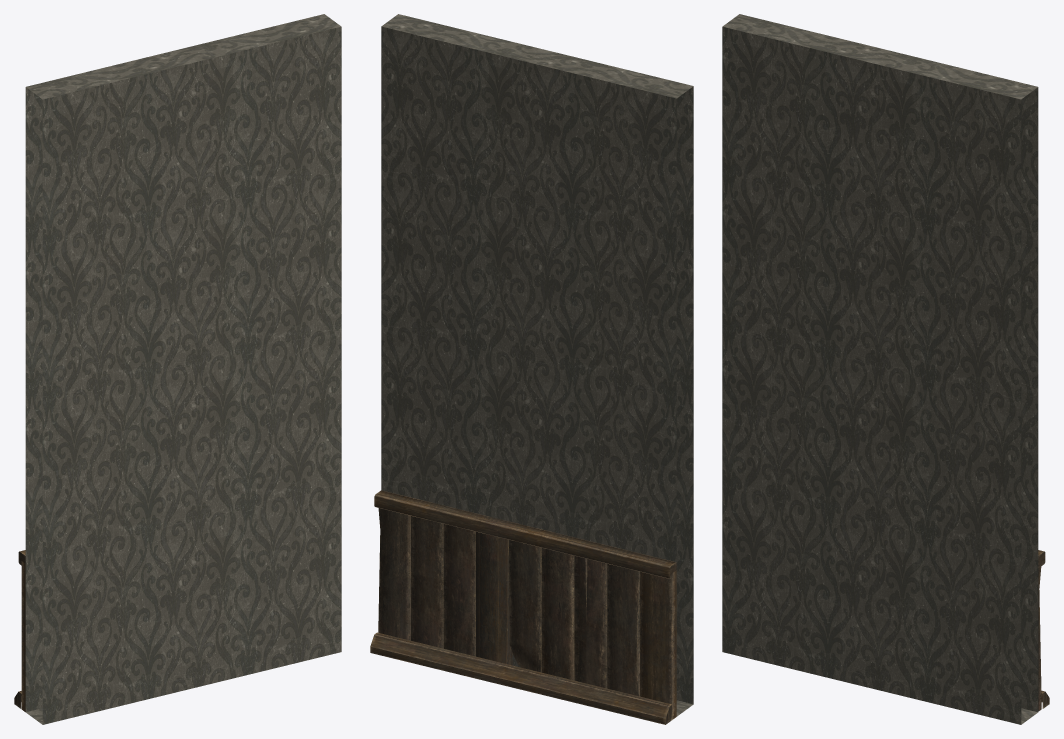
The model's file is SM_Wall_2m.fbx.
The picture shows the model from 3 angles, left to right: view 1: azimuth 30°, elevation 25°; view 2: azimuth 150°, elevation 25°; view 3: azimuth 330°, elevation 25°; orthographic projection.
Visible parts, largest first — view 1: SM_Wall_2m; view 2: SM_Wall_2m; view 3: SM_Wall_2m.
Boxes of the visible parts, left/top/right/bottom form: SM_Wall_2m: left=14, top=14, right=341, bottom=724; SM_Wall_2m: left=370, top=14, right=693, bottom=724; SM_Wall_2m: left=722, top=14, right=1049, bottom=724.
Bounding box in the file's own units: 2 × 4 × 0.33.
